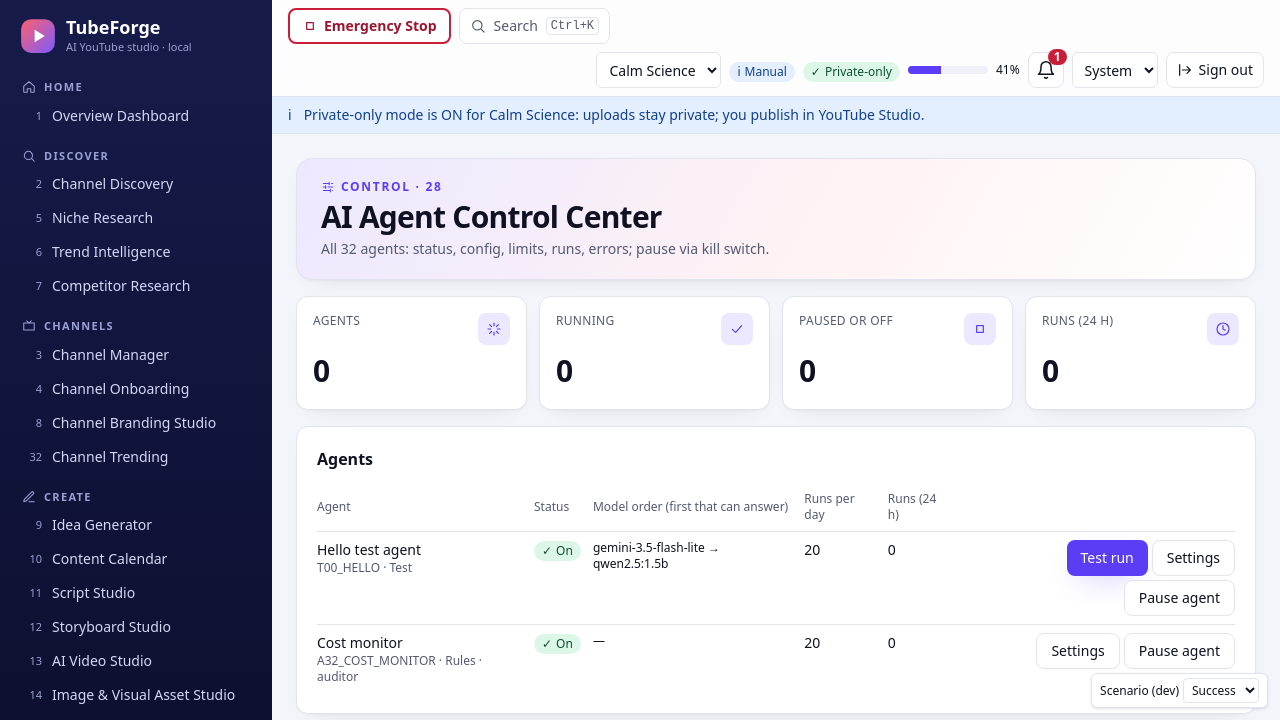
it: Agent Control Center (real API) › edits limits with If-Match and keeps auditors on
The width and height of the screenshot is (1280, 720).
Click the button "Settings" in the row of "Hello test agent": {"x": 1193, "y": 558} [1152,540,1235,576]
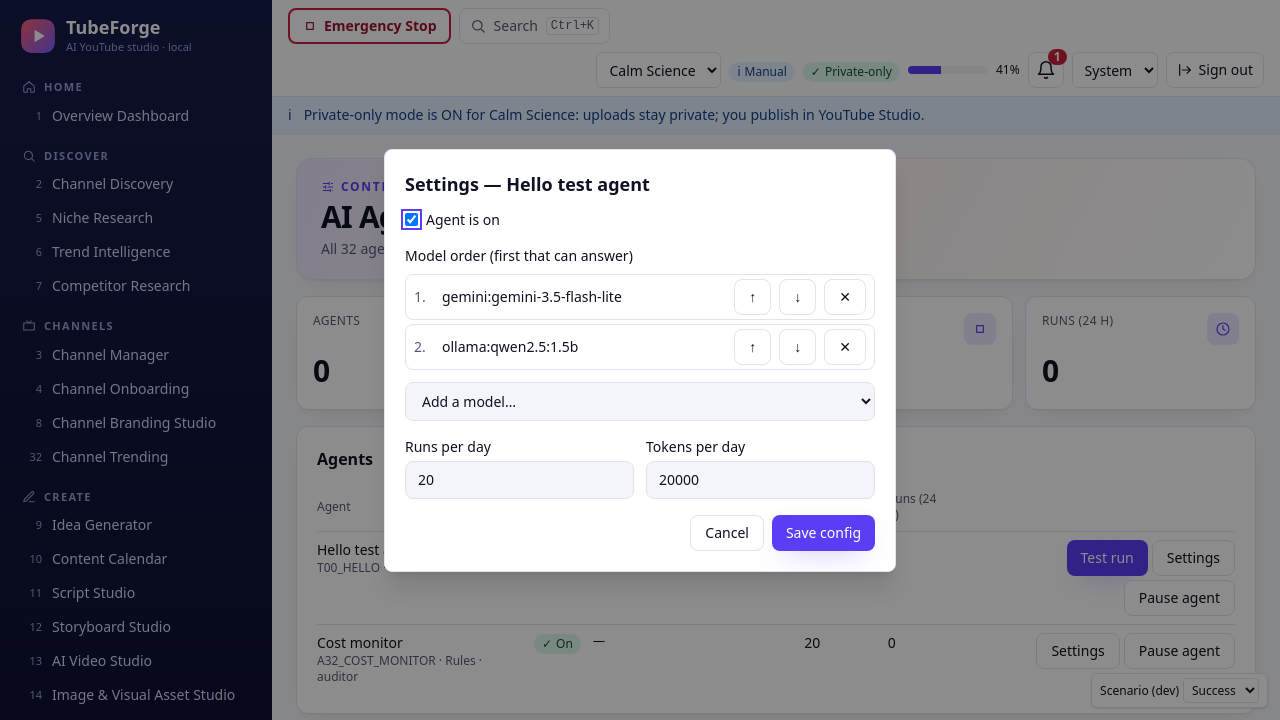
Replace the text in the number field labelled "Runs per day" with "2": {"x": 520, "y": 480} [405,460,634,498]
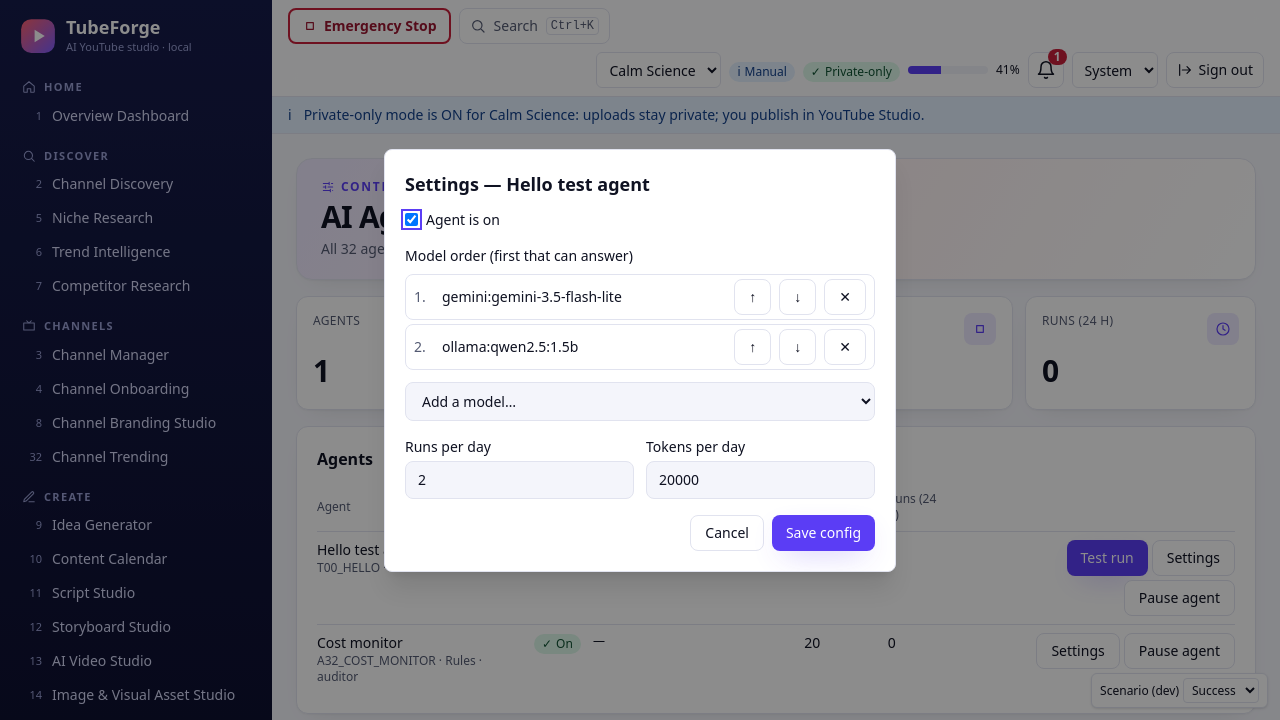
Click the button named "Move ollama:qwen2.5:1.5b up": {"x": 753, "y": 346} [734,328,771,364]
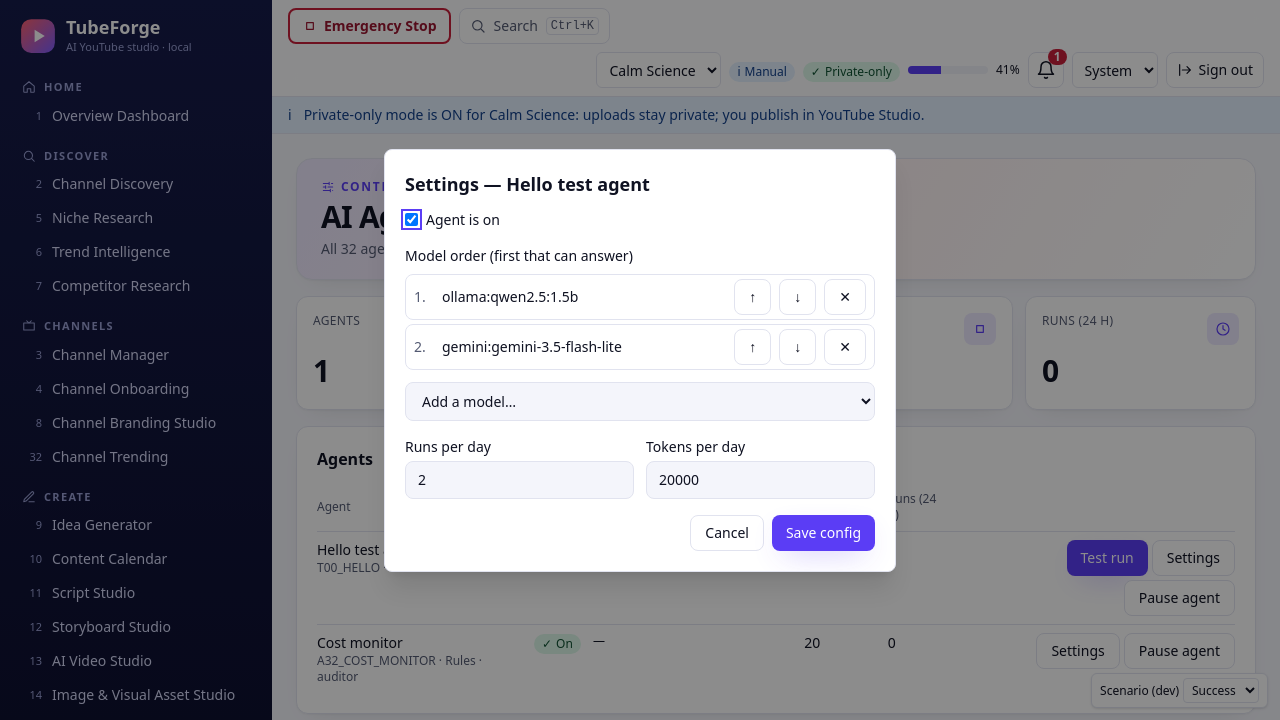
Click the button "Save config": {"x": 823, "y": 532} [772,514,875,550]
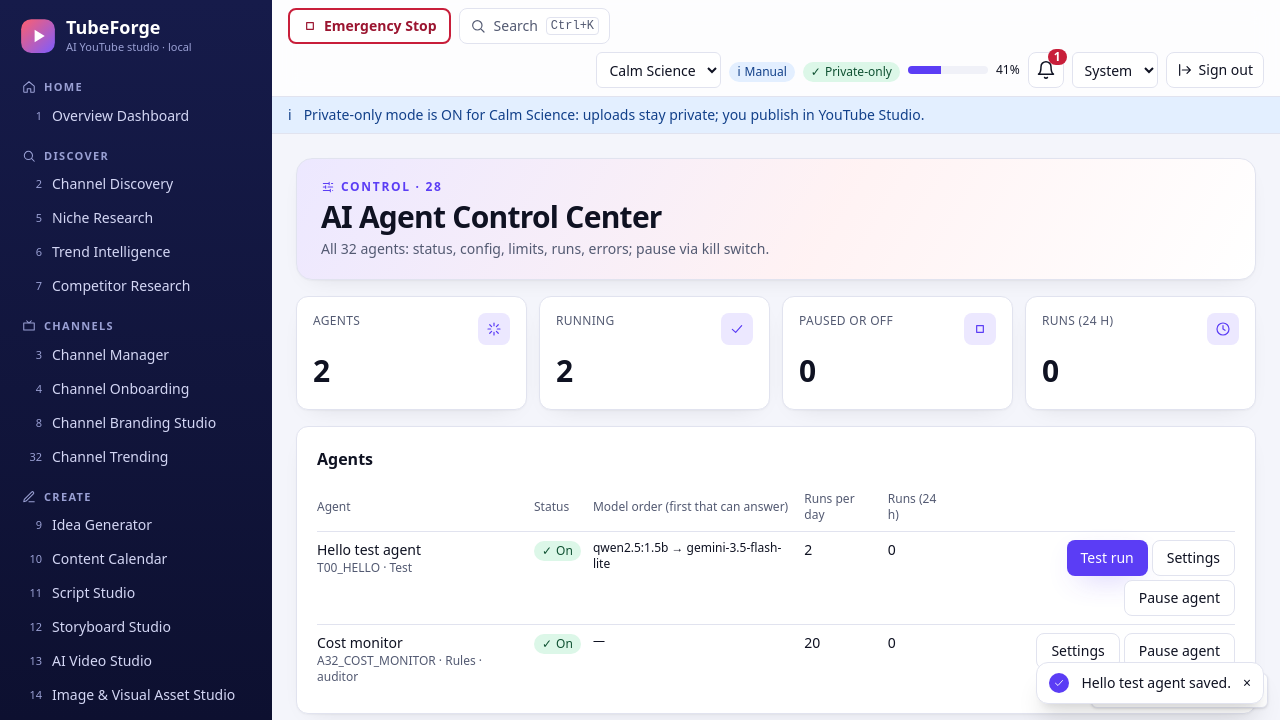
Expected: the text "2" is shown, [804,532,888,624]
Result: the row with test id "agent-T00_HELLO" shows "qwen2.5:1.5b → gemini-3.5-flash-lite" at [593,539,781,572]
Click the button "Settings" in the row of "Cost monitor": {"x": 1078, "y": 651} [1036,633,1120,669]
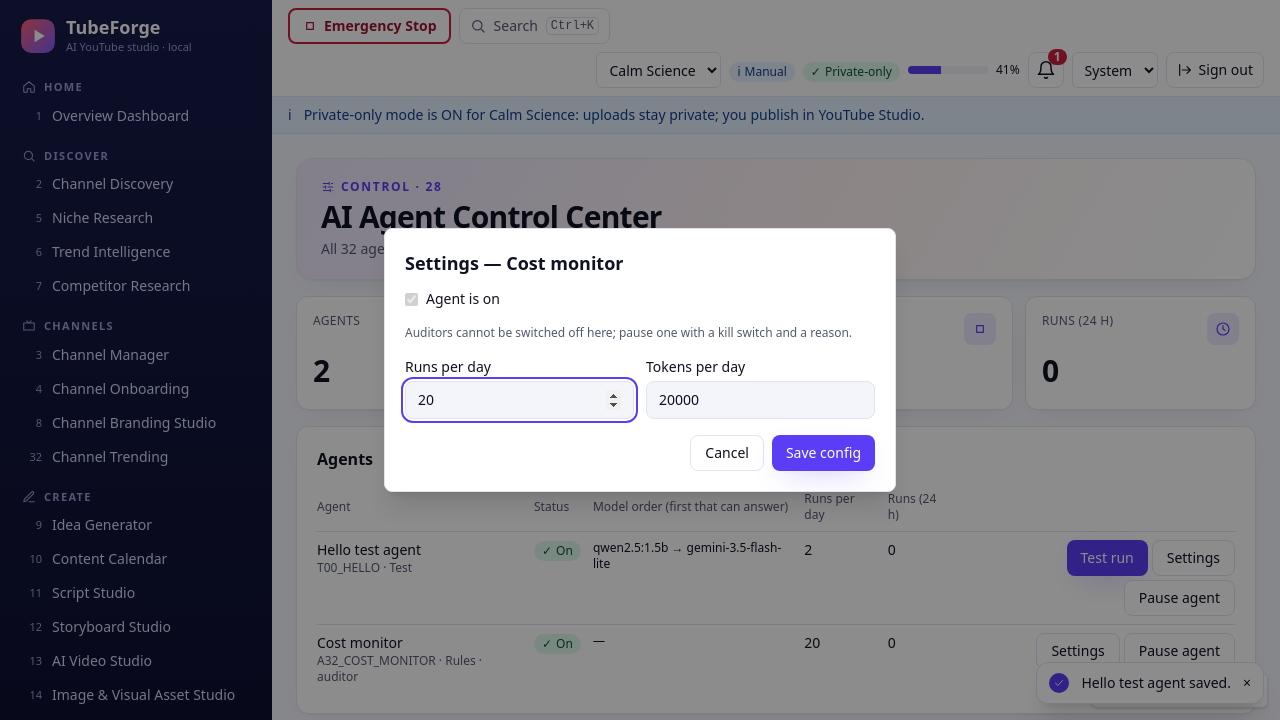
Result: the checkbox labelled "Agent is on" is disabled at [405,292,418,306]
